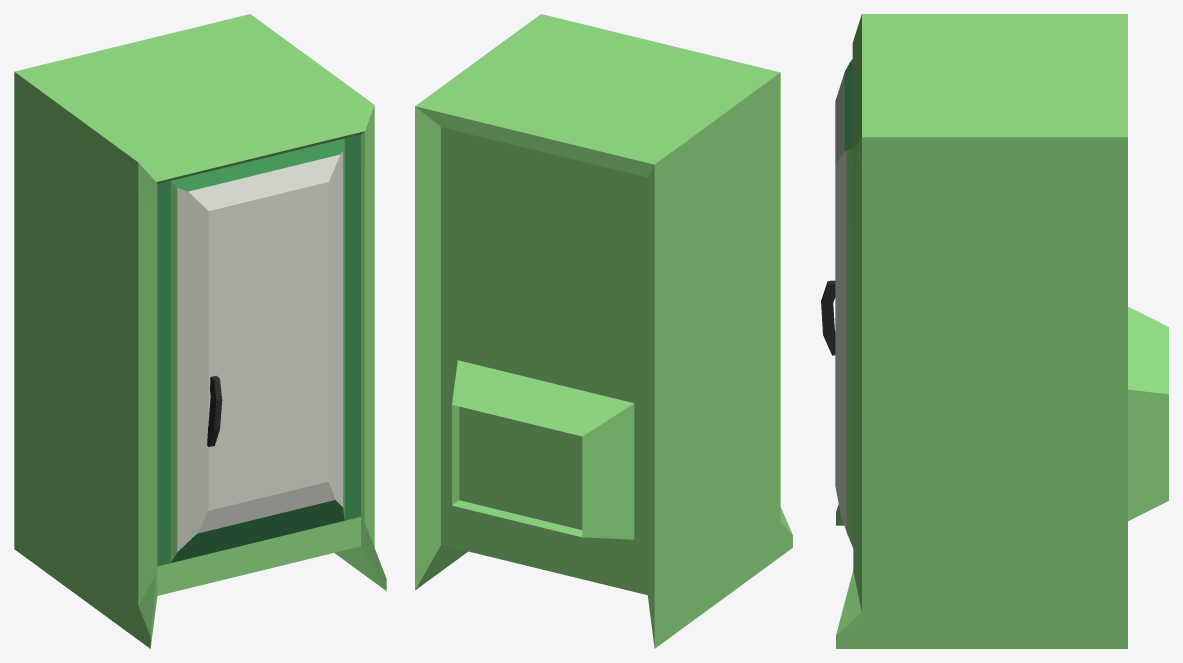
The model's file is 2ndFridge.fbx.
3 renders of one model, left to right at view 1: azimuth 30°, elevation 25°; view 2: azimuth 150°, elevation 25°; view 3: azimuth 270°, elevation 25°, orthographic. The views are drawn at different scales.
Visible parts, largest first — view 1: Cube.023; view 2: Cube.023; view 3: Cube.023.
Part boxes in pixels (left/top/right/bottom): Cube.023: left=14, top=14, right=386, bottom=648; Cube.023: left=415, top=14, right=792, bottom=648; Cube.023: left=821, top=14, right=1168, bottom=648.
Size of the model in its own units: 1.39 by 2.68 by 1.65.
